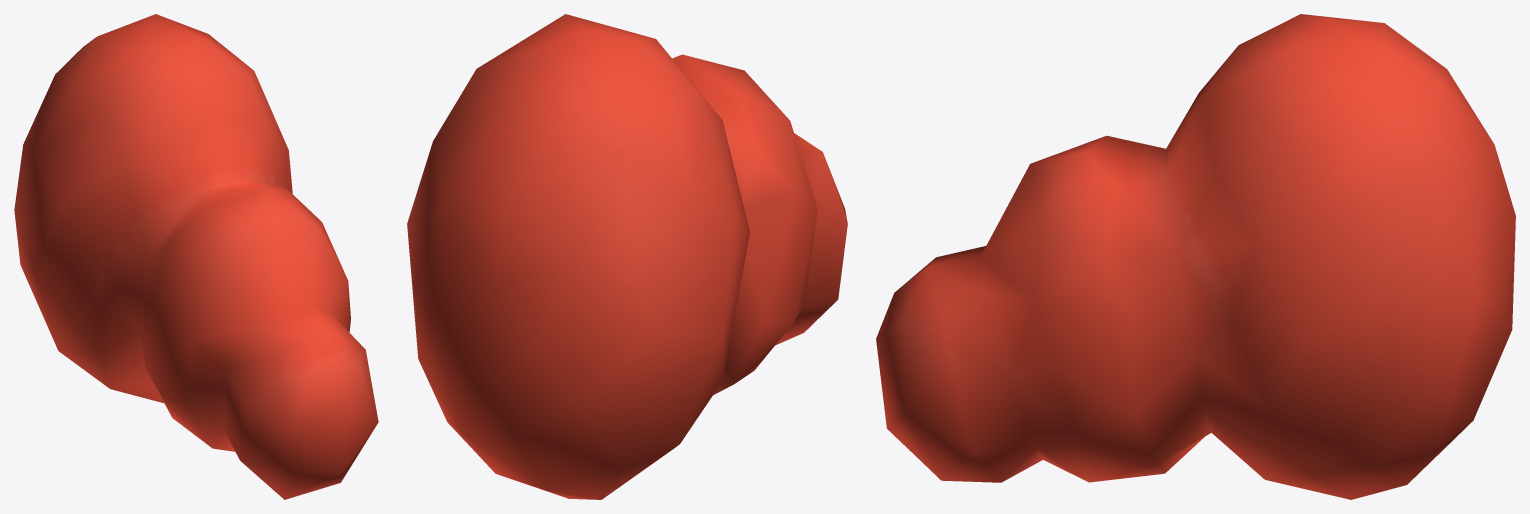
3 views of the same model, side by side, from view 1: azimuth 30°, elevation 25°; view 2: azimuth 150°, elevation 25°; view 3: azimuth 270°, elevation 25° (orthographic). The views are drawn at different scales.
Bounding box in the file's own units: 0.7019 × 1.04 × 1.31.
1 material, 1 textured.
